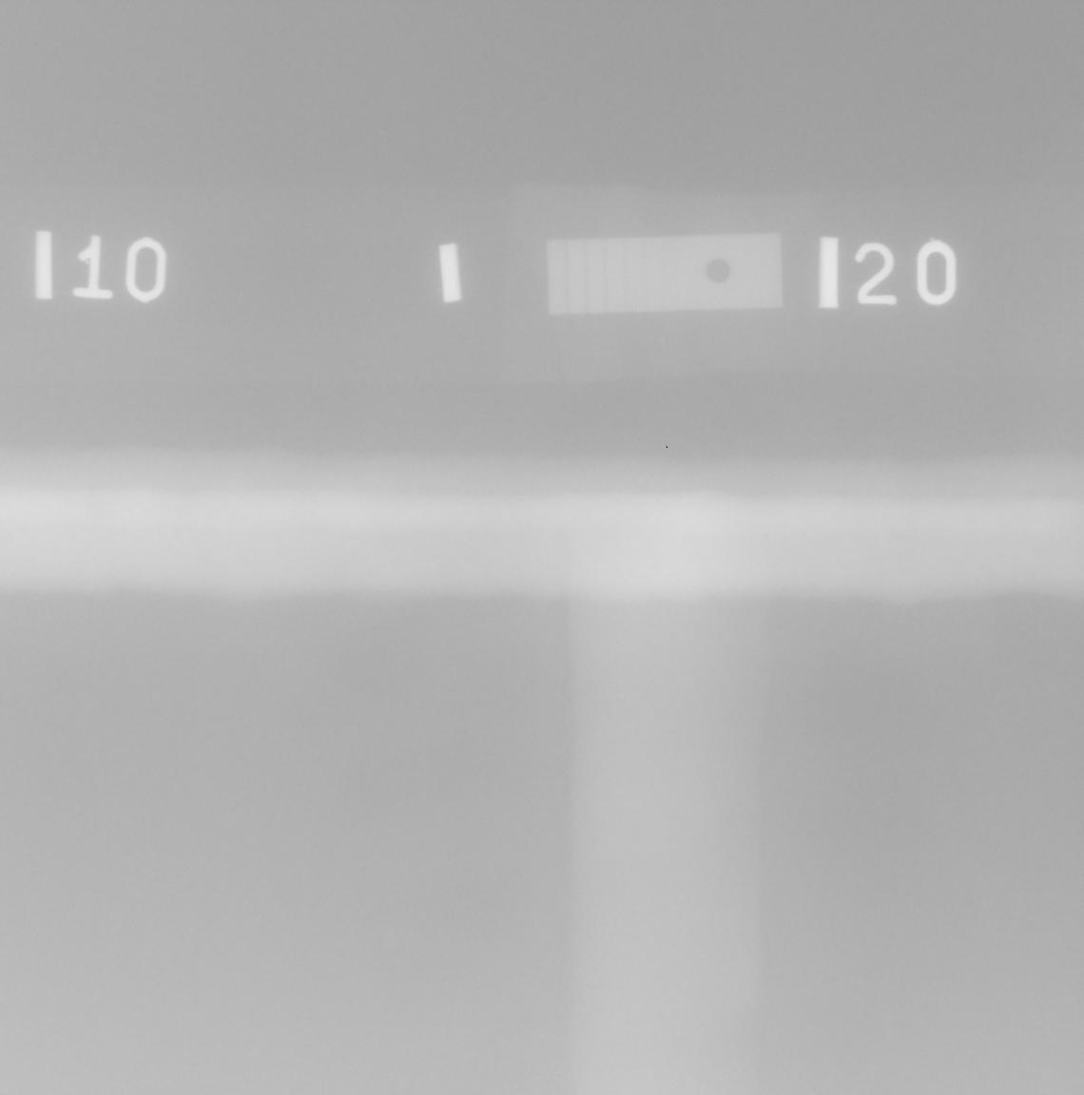Reference Standard 1: (547, 232, 783, 315)
